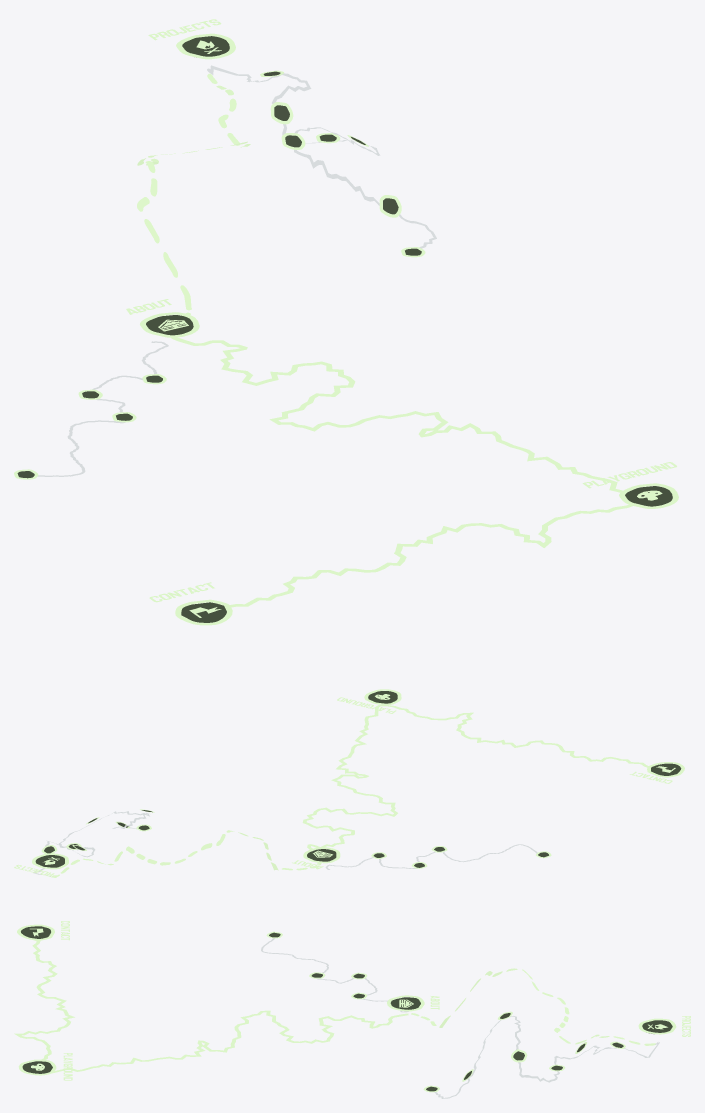
The model's file is sanrita-trails.glb.
3 renders of one model, top to bottom at view 1: azimuth 30°, elevation 25°; view 2: azimuth 150°, elevation 25°; view 3: azimuth 270°, elevation 25°, orthographic. The views are drawn at different scales.
Visible parts, largest first — view 1: trail-main-path, trail-project-path; view 2: trail-main-path, trail-project-path, trail-about-path; view 3: trail-main-path, trail-project-path, trail-about-path.
Boxes of the visible parts, x1,y1,x2,y2 form: trail-main-path: (137,73,632,607); trail-project-path: (207,65,436,248); trail-main-path: (51,705,648,877); trail-project-path: (33,811,149,876); trail-about-path: (325,844,537,869); trail-main-path: (14,940,655,1072); trail-project-path: (434,1016,659,1098); trail-about-path: (261,938,408,1012).
Bounding box in the file's own units: 1.39 × 0.3267 × 2.14.
